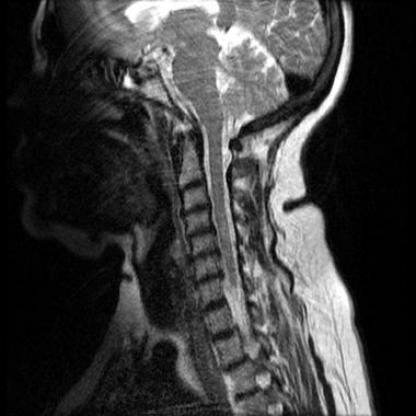Disc Protrusionrotation: (188, 250, 221, 263), (193, 273, 223, 287), (184, 227, 216, 240), (182, 204, 211, 217)
Osteophytesrotation: (188, 250, 221, 263), (184, 227, 216, 240), (194, 273, 224, 286), (182, 204, 211, 217)
